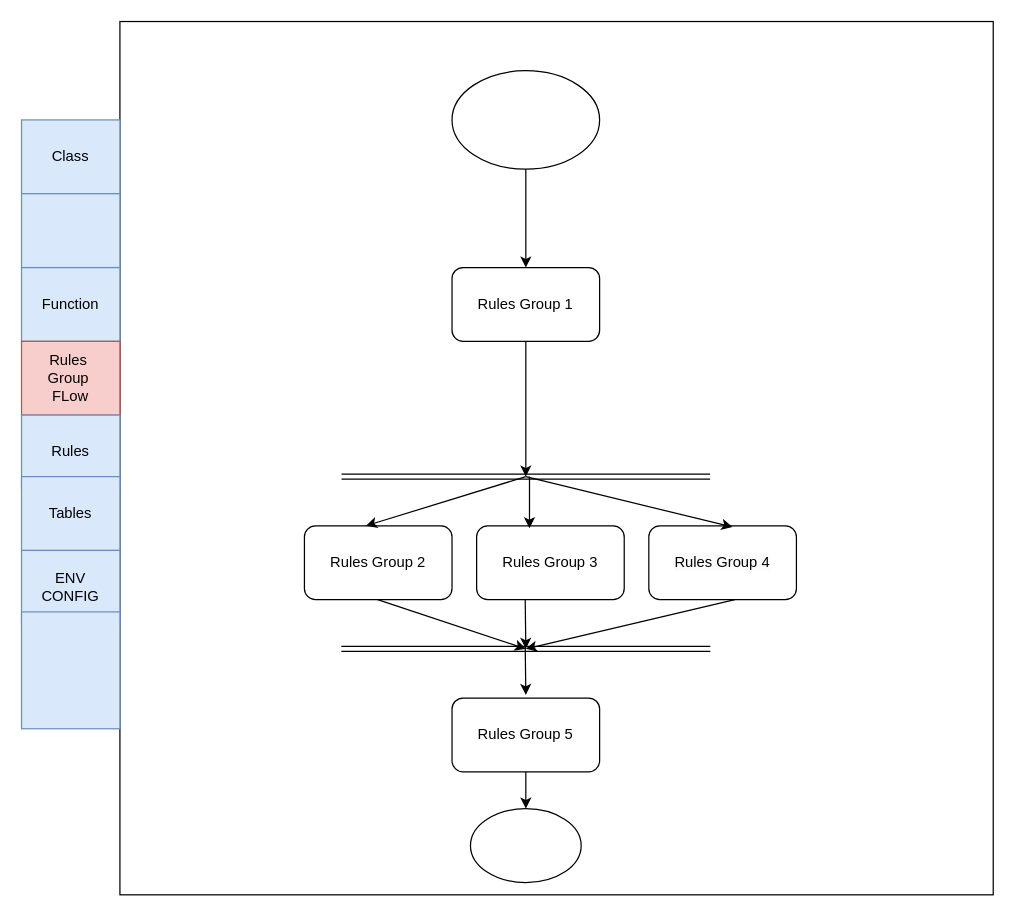
Some shapes in this 1015 by 916 pixel diagram are drawn without their labels. The centre of each missing label's shape, as x and y in pixels:
"End" goes at point 525,845.
"Fields" goes at point 70,230.
"Rules Group" goes at point 70,670.
"Start" goes at point 525,119.
